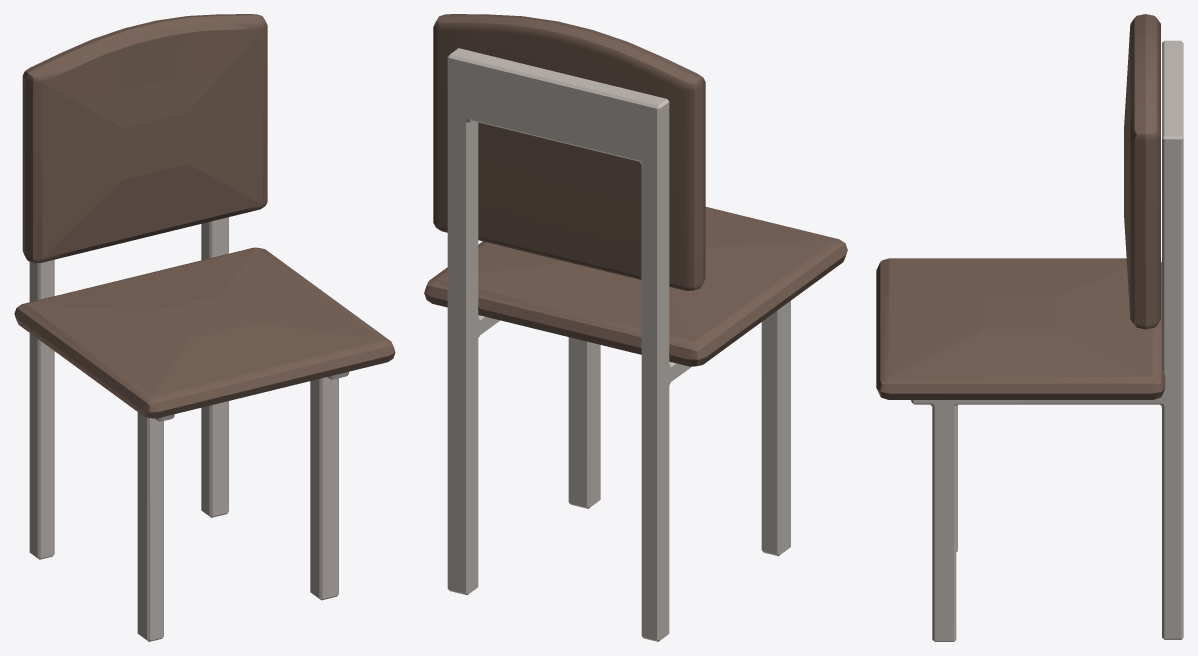
File: F11_Chair.fbx
The picture shows the model from 3 angles, left to right: view 1: azimuth 30°, elevation 25°; view 2: azimuth 150°, elevation 25°; view 3: azimuth 270°, elevation 25°; orthographic projection. The views are drawn at different scales.
Visible parts, largest first — view 1: DeskChair; view 2: DeskChair; view 3: DeskChair.
Boxes of the visible parts, box(x1,y1,x2,y2) form: DeskChair: box(14, 14, 395, 641); DeskChair: box(424, 14, 847, 641); DeskChair: box(876, 14, 1183, 641).
Bounding box in the file's own units: 1.59 × 3.12 × 1.6.
